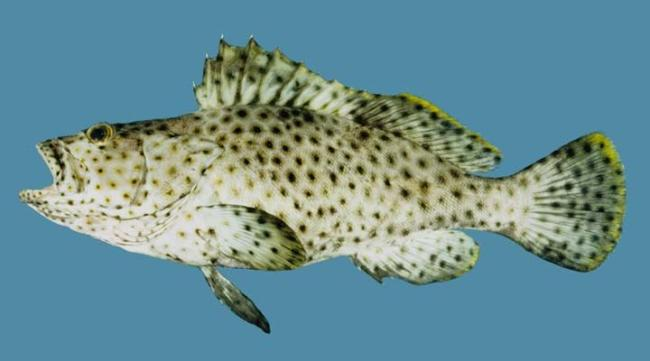fish: (18, 31, 628, 335)
